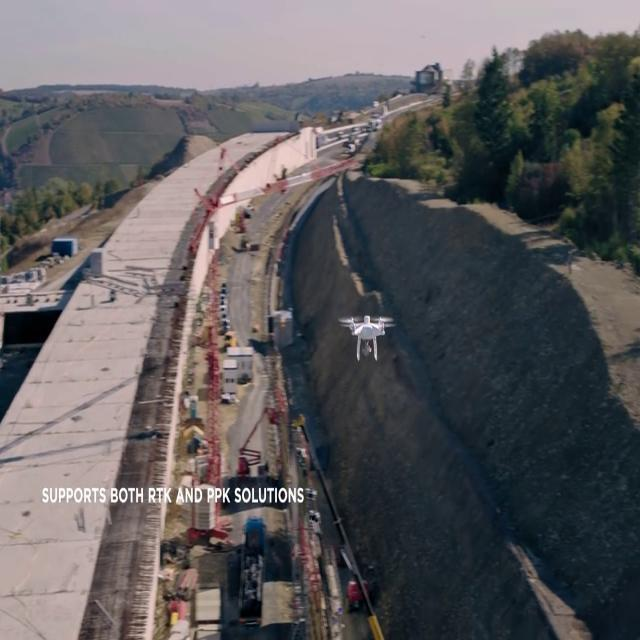drone: (336, 311, 398, 363)
